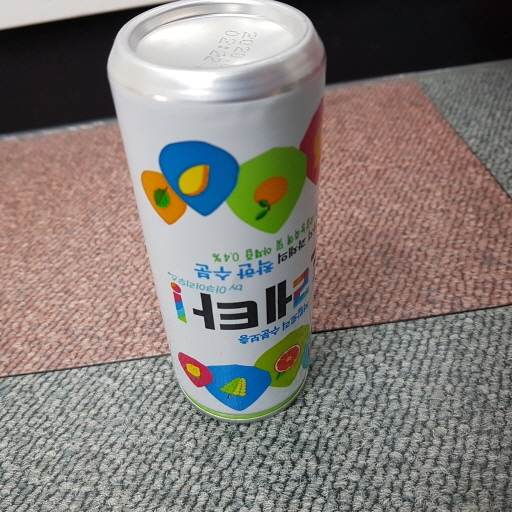Metal_0: (105, 2, 330, 419)
